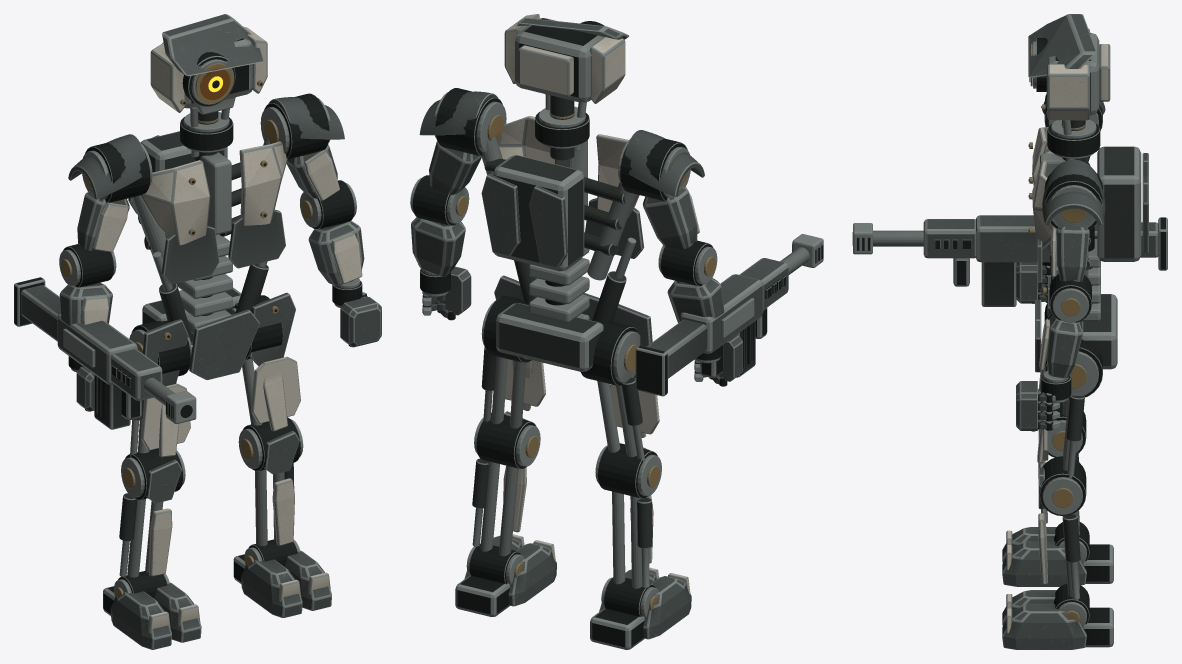
Rendered from ranged-t1-tracker.glb.
3 views of the same model, side by side, from view 1: azimuth 30°, elevation 25°; view 2: azimuth 150°, elevation 25°; view 3: azimuth 270°, elevation 25° (orthographic). The views are drawn at different scales.
Parts seen in each view (by area): view 1: chest__clay, pelvis__metal, chest__metal, pelvis__clay, head__clay, weaponR__clay, weaponR__metal, shoulderR__clay, ankleL__clay, ankleR__clay, head__metal, kneeR__metal (+17 smaller); view 2: pelvis__metal, chest__metal, chest__clay, kneeL__metal, head__clay, kneeR__metal, weaponR__clay, weaponR__metal, shoulderR__clay, head__metal, shoulderL__clay, ankleL__metal (+18 smaller); view 3: chest__metal, head__clay, weaponR__clay, weaponR__metal, pelvis__metal, ankleL__clay, shoulderL__clay, kneeL__metal, ankleR__clay, chest__clay, elbowL__clay, ankleL__metal (+12 smaller).
Part boxes in pixels (box(x1,y1,x2,y2)): chest__clay: box(128, 135, 287, 284); pelvis__metal: box(129, 234, 283, 376); chest__metal: box(131, 111, 270, 259); pelvis__clay: box(142, 292, 295, 386); head__clay: box(150, 14, 267, 112); weaponR__clay: box(21, 285, 162, 400); weaponR__metal: box(14, 277, 196, 429); shoulderR__clay: box(68, 134, 145, 252); ankleL__clay: box(241, 550, 331, 617); ankleR__clay: box(110, 582, 201, 649); head__metal: box(162, 38, 263, 160); kneeR__metal: box(119, 448, 185, 577); pelvis__metal: box(481, 237, 640, 385); chest__metal: box(481, 106, 636, 280); chest__clay: box(481, 116, 644, 267); kneeL__metal: box(472, 412, 540, 556); head__clay: box(504, 14, 628, 103); kneeR__metal: box(595, 443, 661, 588); weaponR__clay: box(647, 258, 788, 378); weaponR__metal: box(635, 234, 823, 396); shoulderR__clay: box(625, 130, 704, 248); head__metal: box(515, 18, 604, 160); shoulderL__clay: box(419, 91, 498, 195); ankleL__metal: box(455, 543, 524, 616); chest__metal: box(1028, 119, 1141, 277); head__clay: box(1028, 14, 1110, 120); weaponR__clay: box(923, 215, 1158, 262); weaponR__metal: box(852, 217, 1167, 306); pelvis__metal: box(1042, 226, 1117, 399); ankleL__clay: box(1002, 590, 1086, 649); shoulderL__clay: box(1042, 159, 1105, 281); kneeL__metal: box(1039, 456, 1086, 599); ankleR__clay: box(1002, 527, 1086, 586); chest__clay: box(1032, 127, 1148, 289); elbowL__clay: box(1039, 315, 1082, 378); ankleL__metal: box(1054, 583, 1113, 647).
Bounding box in the file's own units: 2.33 × 4.33 × 2.16.
Materials: 12 (10 with a texture image).
